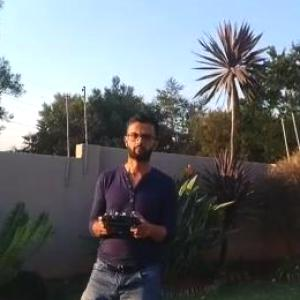follow: (73, 105, 182, 299)
